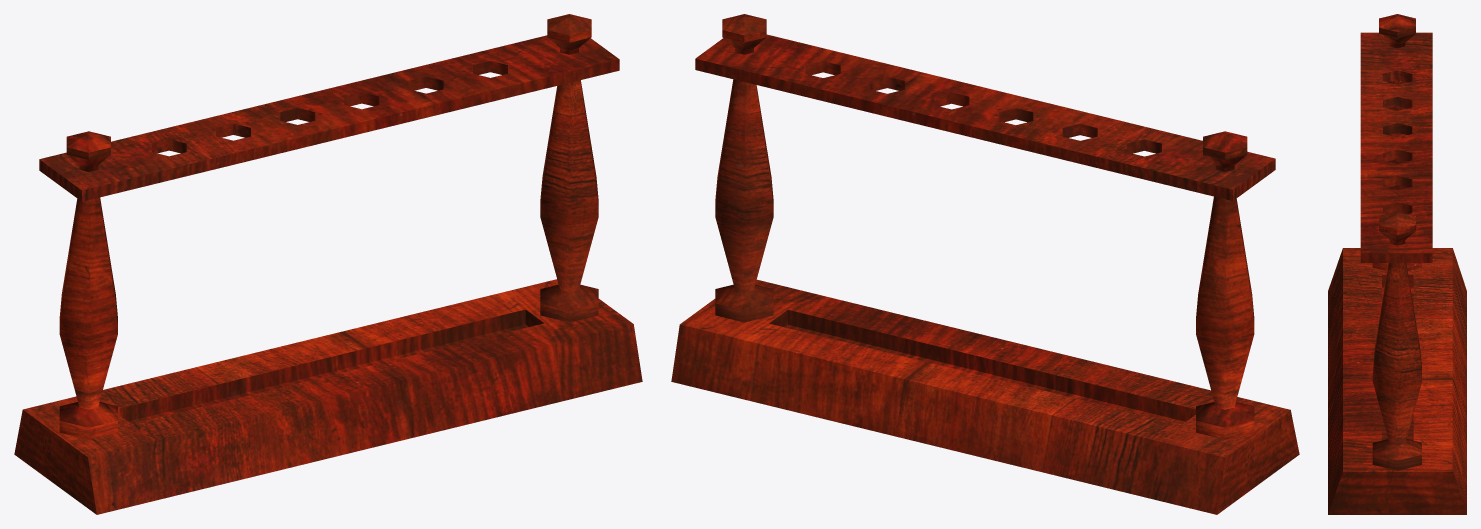
The model's file is Test_Tube_Dock.FBX.
The picture shows the model from 3 angles, left to right: view 1: azimuth 30°, elevation 25°; view 2: azimuth 150°, elevation 25°; view 3: azimuth 270°, elevation 25°; orthographic projection. The views are drawn at different scales.
Parts seen in each view (by area): view 1: Test_Tube_Dock; view 2: Test_Tube_Dock; view 3: Test_Tube_Dock.
Boxes of the visible parts, x1,y1,x2,y2 form: Test_Tube_Dock: [14, 14, 642, 514]; Test_Tube_Dock: [671, 14, 1299, 514]; Test_Tube_Dock: [1328, 14, 1466, 514].
Bounding box in the file's own units: 46.78 × 12.25 × 28.09.
